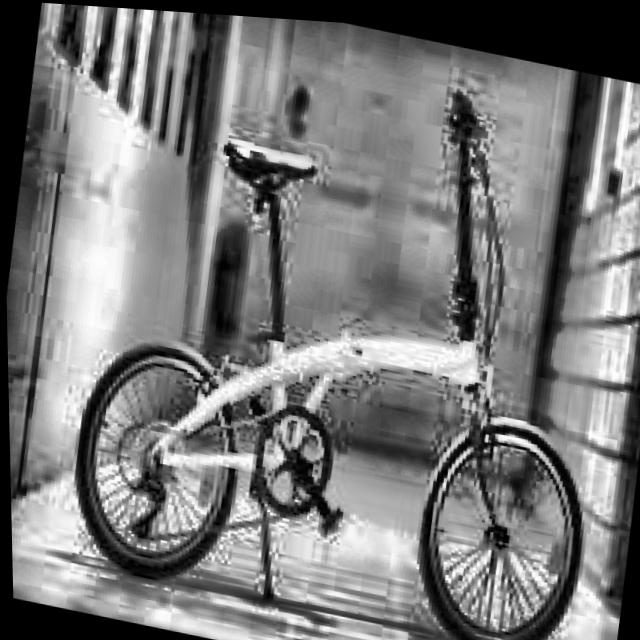motorcycle: (47, 20, 640, 640)
